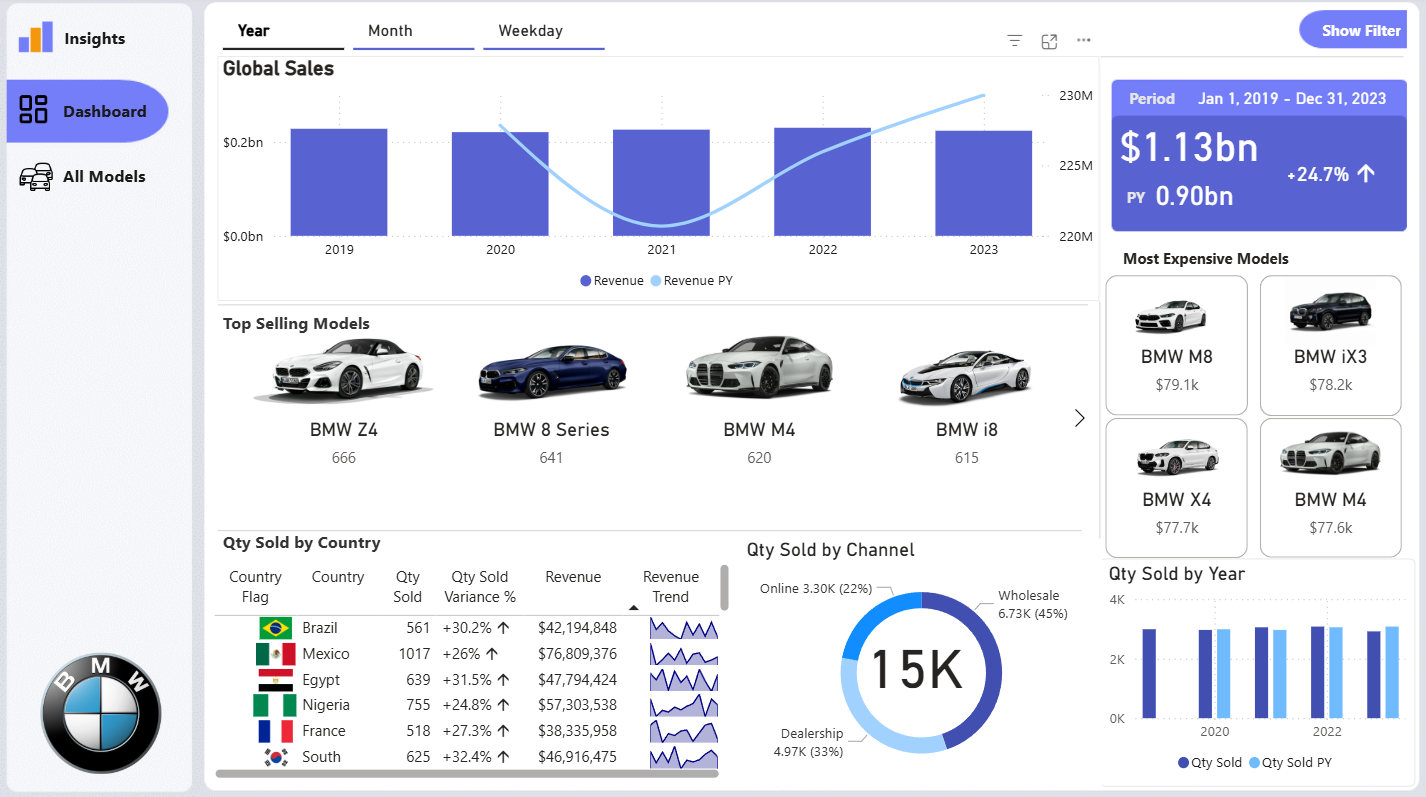

The dashboard page shown, as its layout file describes it:
{"tool":"powerbi","page":{"name":"Dashboard","canvas":[1280,720],"ordinal":0},"visuals":[{"type":"lineStackedColumnComboChart","title":"Global Sales","fields":{"Category":["Calendar.Year"],"Y":["All Measures.Revenue"],"Y2":["All Measures.Revenue PY"]},"box":[198.2,53.8,786.1,218.4],"z":0},{"type":"advancedSlicerVisual","fields":{"Values":["PeriodSlicer.PeriodSlicer"]},"box":[198.2,3.4,351.1,50.4],"z":1000},{"type":"cardVisual","fields":{"Data":["All Measures.Revenue"]},"box":[981.9,86.5,163.9,85.2],"z":2000},{"type":"cardVisual","fields":{"Data":["All Measures.Revenue PY"]},"box":[975,131.7,186.7,83.3],"z":3000},{"type":"textbox","box":[1003.3,165,68.3,43.3],"z":4000},{"type":"cardVisual","fields":{"Data":["All Measures.Revenue Variance % Arrow"]},"box":[1115.3,117.8,149.7,78.5],"z":5000},{"type":"cardVisual","fields":{"Data":["All Measures.Selected Period"]},"box":[1030.9,57.7,249.1,79.8],"z":6000},{"type":"textbox","box":[1004.9,77.3,68.7,42.9],"z":7000},{"type":"advancedSlicerVisual","fields":{"Values":["dim_model.Model"]},"box":[198.4,279.2,783.8,194.2],"z":8000},{"type":"textbox","box":[198.4,276.4,194.2,34],"z":9000},{"type":"advancedSlicerVisual","fields":{"Values":["dim_model.Model"]},"box":[964.5,243.4,315.8,263.5],"z":10000},{"type":"textbox","box":[999.9,218.8,188,29.3],"z":11000},{"type":"clusteredColumnChart","title":"Qty Sold by Year","fields":{"Y":["All Measures.Qty Sold","All Measures.Qty Sold PY"],"Category":["Calendar.Year"]},"box":[984.5,500.7,280.4,203.4],"z":12000},{"type":"donutChart","fields":{"Y":["All Measures.Qty Sold"],"Category":["dim_Channel.Channel"]},"box":[664.8,483.6,321.3,220.5],"z":13000},{"type":"cardVisual","fields":{"Data":["All Measures.Qty Sold"]},"box":[758.7,547.1,193.5,91.6],"z":14000},{"type":"tableEx","fields":{"Values":["dim_Country.Countries with Flags URL.Flag","dim_Country.Country","All Measures.Qty Sold","All Measures.Qty Sold Variance % Arrow","All Measures.Revenue","All Measures.Revenue Sparkline"]},"box":[189.7,500.6,469.7,201.3],"z":15000},{"type":"image","box":[12.1,580.4,164.3,117.6],"z":16000},{"type":"image","box":[12.1,141.7,48.2,39.2],"z":17000},{"type":"textbox","box":[55.8,144.7,101,42.2],"z":18000},{"type":"textbox","box":[55.5,86.5,134.2,41.3],"z":19000},{"type":"image","box":[12.1,81.4,43.7,39.2],"z":20000},{"type":"image","box":[12.1,13.6,48.2,43.7],"z":21000},{"type":"textbox","box":[57.3,22.6,90.5,42.2],"z":22000},{"type":"textbox","box":[198.4,470.6,226.8,35.4],"z":23000},{"type":"actionButton","box":[1171.3,13.4,92.3,34.2],"z":25000}]}

Visuals, with their boxes on the page's 1280x720 design canvas (x1, y1, x2, y2). These are canvas units, not pixel positions in the 1426x797 screenshot, which may show the page scaled, cropped or inside an application window:
"Global Sales" lineStackedColumnComboChart: 198/54/984/272
advancedSlicerVisual - PeriodSlicer.PeriodSlicer: 198/3/549/54
cardVisual - All Measures.Revenue: 982/86/1146/172
cardVisual - All Measures.Revenue PY: 975/132/1162/215
textbox: 1003/165/1072/208
cardVisual - All Measures.Revenue Variance % Arrow: 1115/118/1265/196
cardVisual - All Measures.Selected Period: 1031/58/1280/138
textbox: 1005/77/1074/120
advancedSlicerVisual - dim_model.Model: 198/279/982/473
textbox: 198/276/393/310
advancedSlicerVisual - dim_model.Model: 964/243/1280/507
textbox: 1000/219/1188/248
"Qty Sold by Year" clusteredColumnChart: 984/501/1265/704
donutChart - All Measures.Qty Sold x dim_Channel.Channel: 665/484/986/704
cardVisual - All Measures.Qty Sold: 759/547/952/639
tableEx - dim_Country.Countries with Flags URL.Flag x dim_Country.Country: 190/501/659/702
image: 12/580/176/698
image: 12/142/60/181
textbox: 56/145/157/187
textbox: 56/86/190/128
image: 12/81/56/121
image: 12/14/60/57
textbox: 57/23/148/65
textbox: 198/471/425/506
actionButton: 1171/13/1264/48
